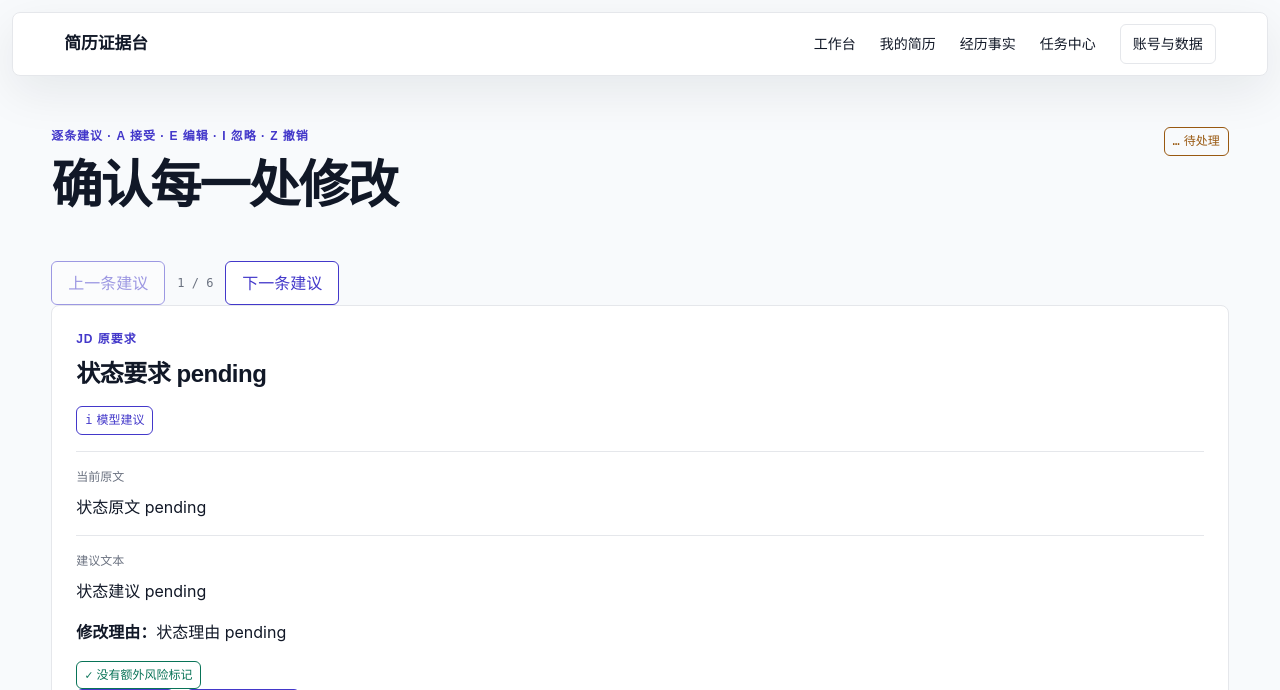
Test: V2 real workflow pages › exposes decision actions only for the current server suggestion status
Expected: the text "状态原文 pending" is shown, [76, 497, 206, 517]
What coordinates should you click on to do the following:
click the button "下一条建议"
I would click on:
 (282, 283)
Its box is [225, 261, 339, 305].
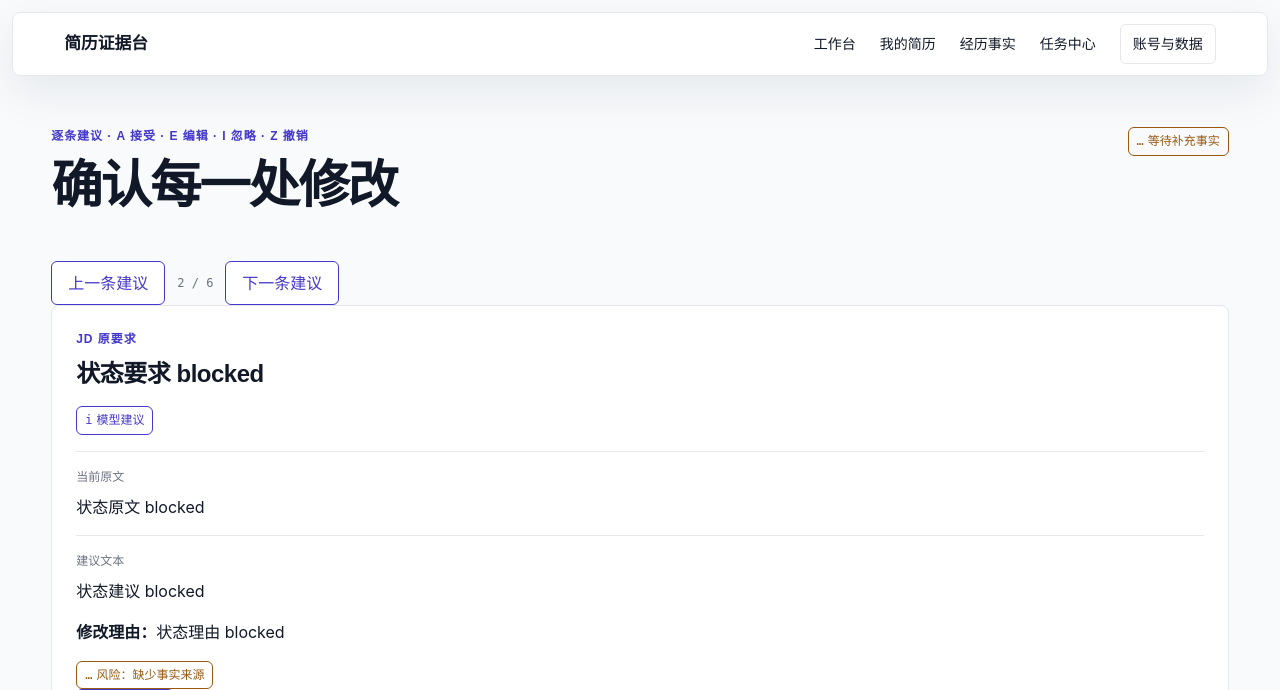
Expected: the text "状态原文 blocked" is shown, [76, 497, 205, 517]
What coordinates should you click on to do the following:
click the button "下一条建议"
I would click on:
 (282, 283)
Its box is [225, 261, 339, 305].
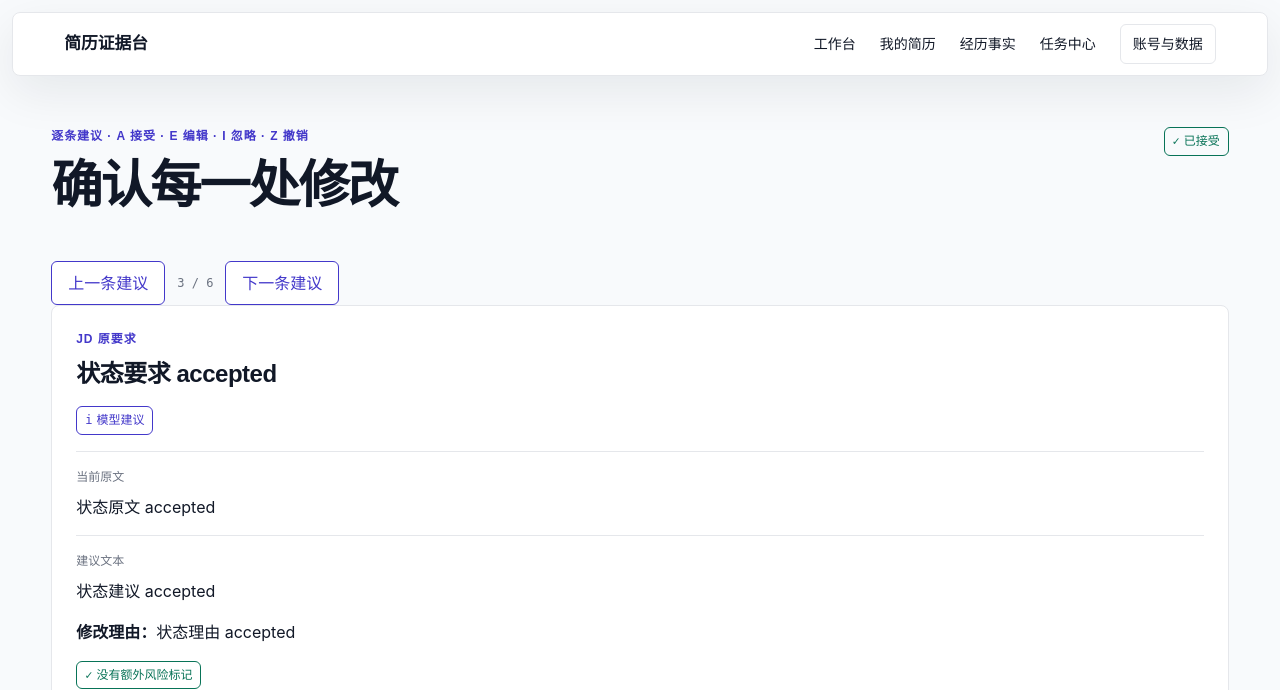
Expected: the button "接受建议" is not shown
What coordinates should you click on to do the following:
click the button "下一条建议"
I would click on:
 (282, 283)
Its box is [225, 261, 339, 305].
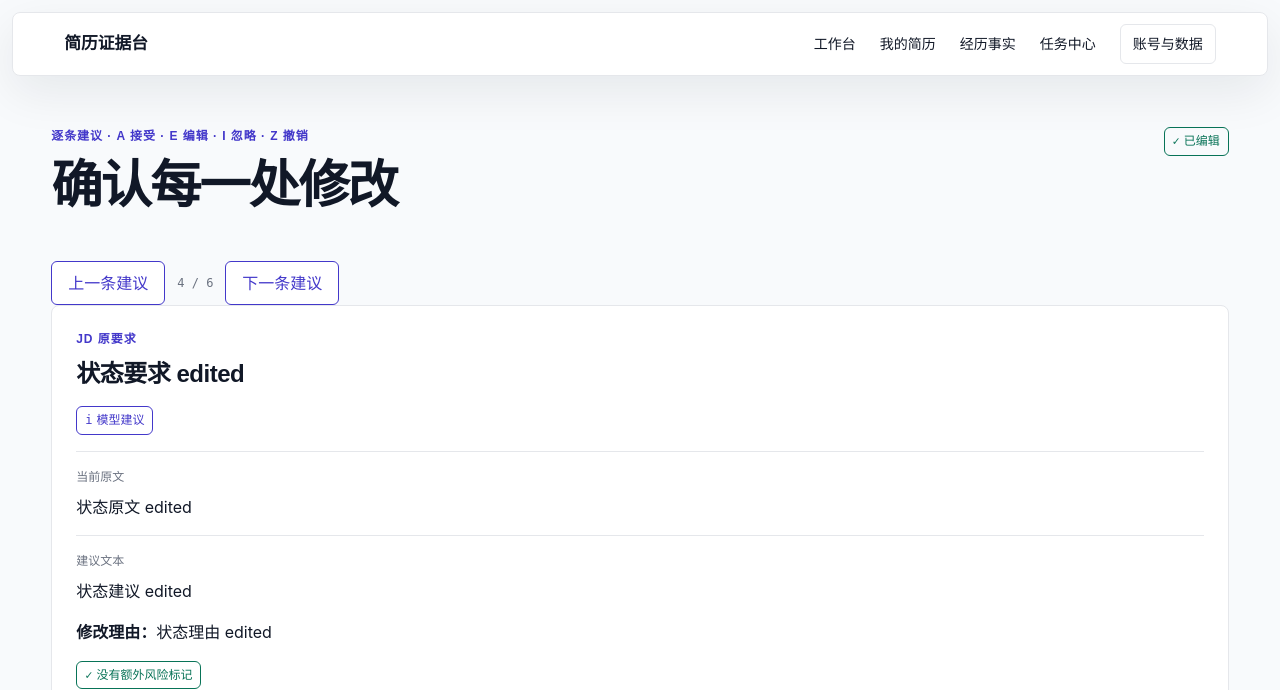
Expected: the button "接受建议" is not shown
Expected: the button "忽略建议" is not shown
What coordinates should you click on to do the following:
click the button "下一条建议"
I would click on:
 (282, 283)
Its box is [225, 261, 339, 305].
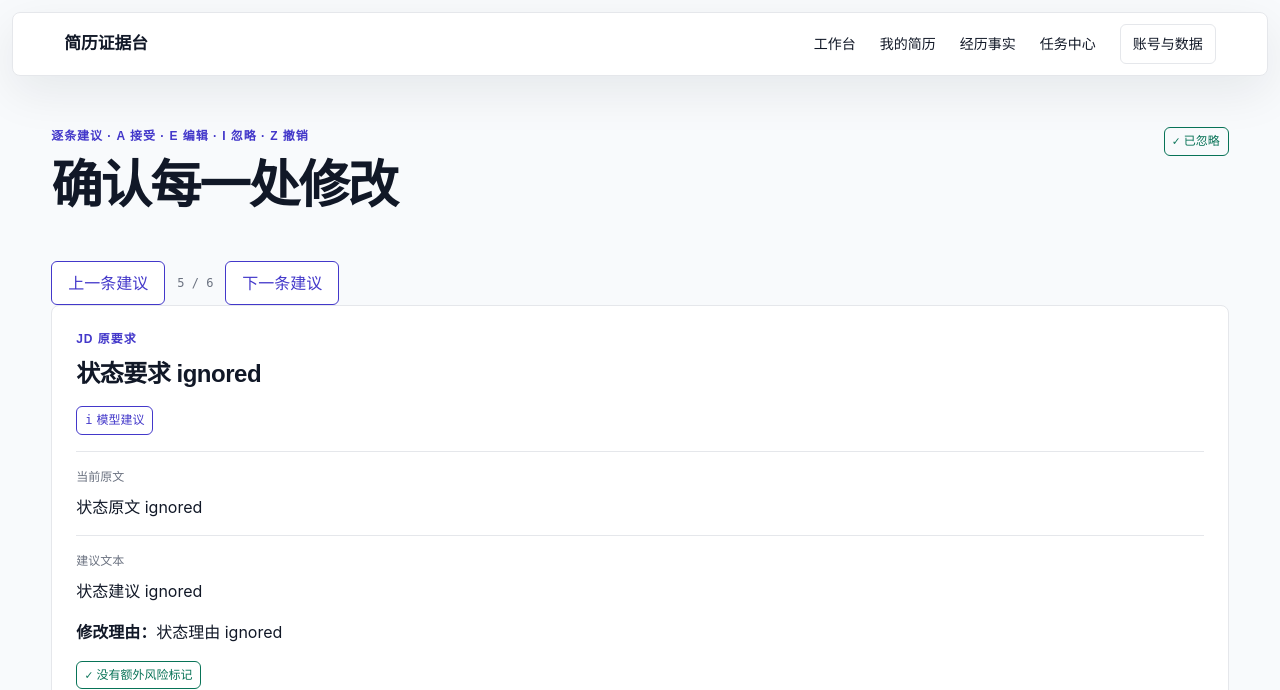
Expected: the button "接受建议" is not shown
Expected: the button "忽略建议" is not shown
What coordinates should you click on to do the following:
click the button "下一条建议"
I would click on:
 (282, 283)
Its box is [225, 261, 339, 305].
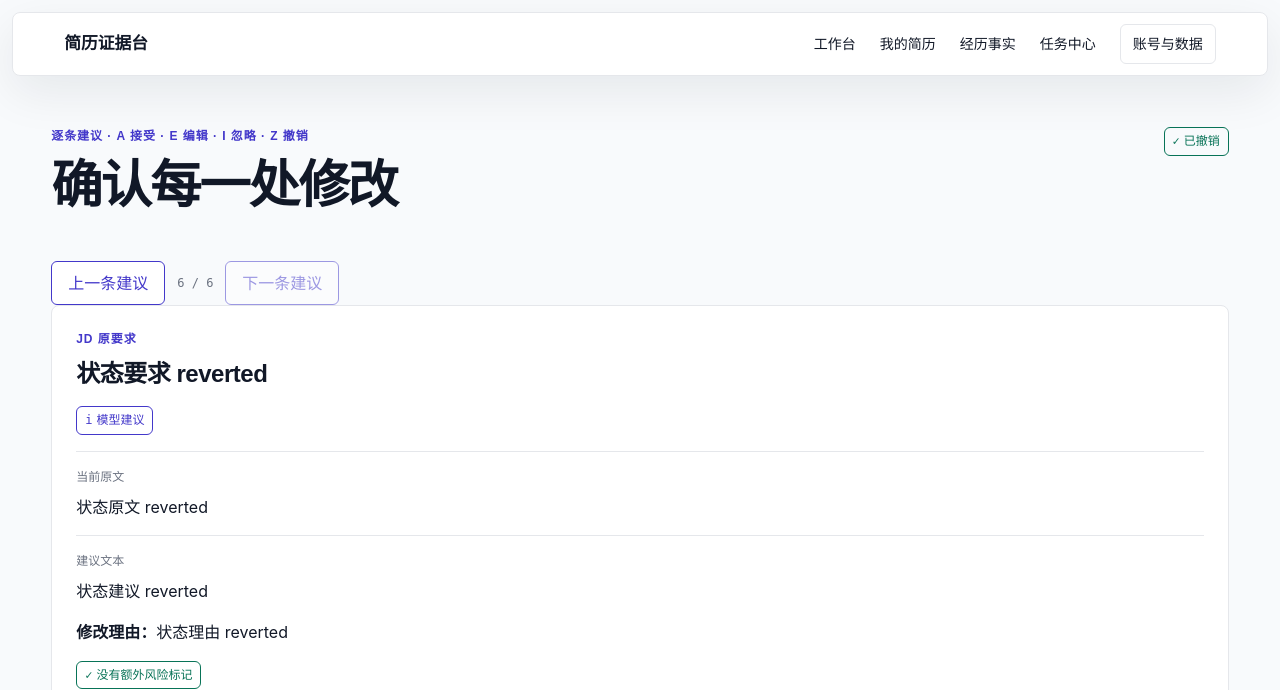
Expected: the button "接受建议" is not shown
Expected: the text "状态原文 reverted" is shown, [76, 497, 208, 517]
